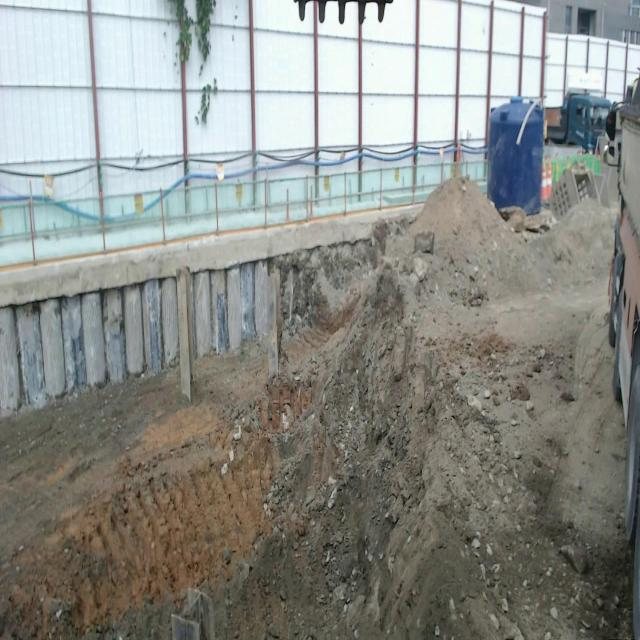red-sand: (0, 178, 634, 639)
